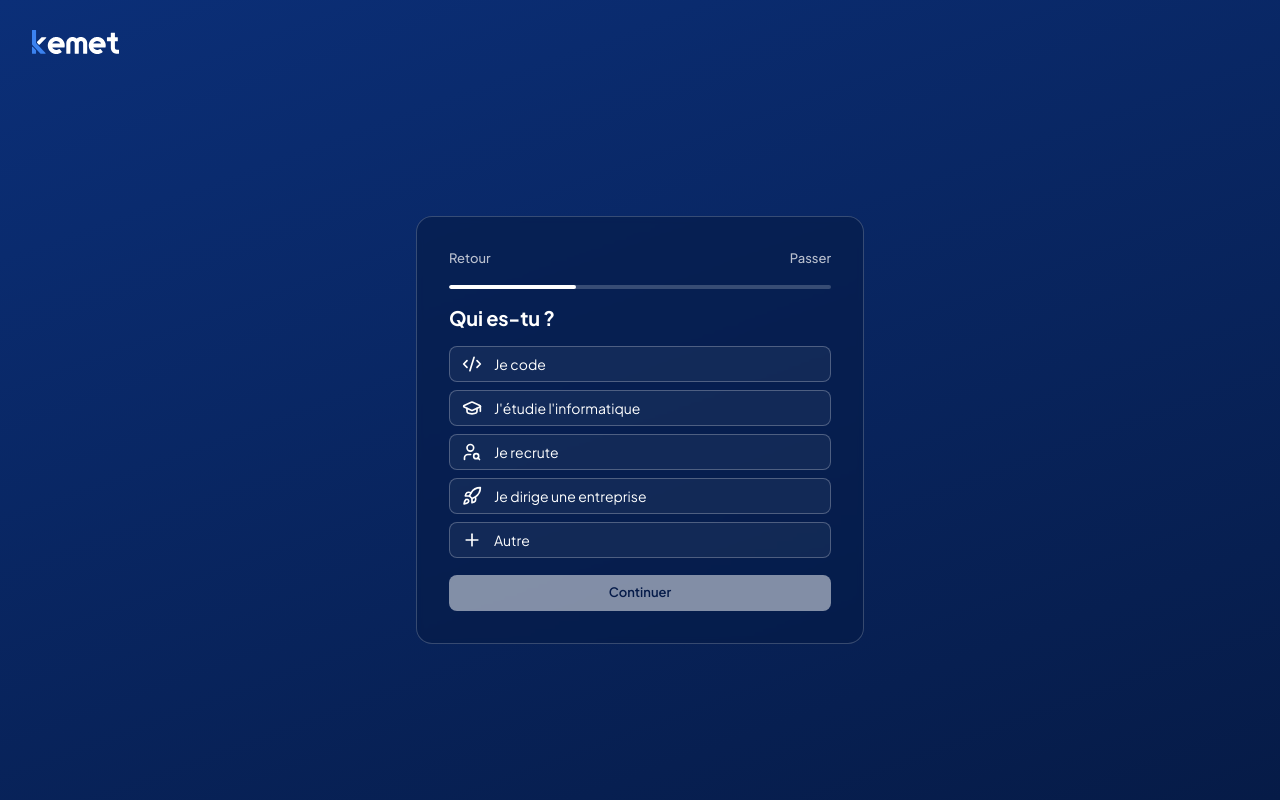
Scenario: IntroQuestionsPage › demande ses domaines à un développeur
This screenshot has width=1280, height=800.
Click the radio button labelled "Je code". click: (640, 364)
box: [449, 346, 831, 382]
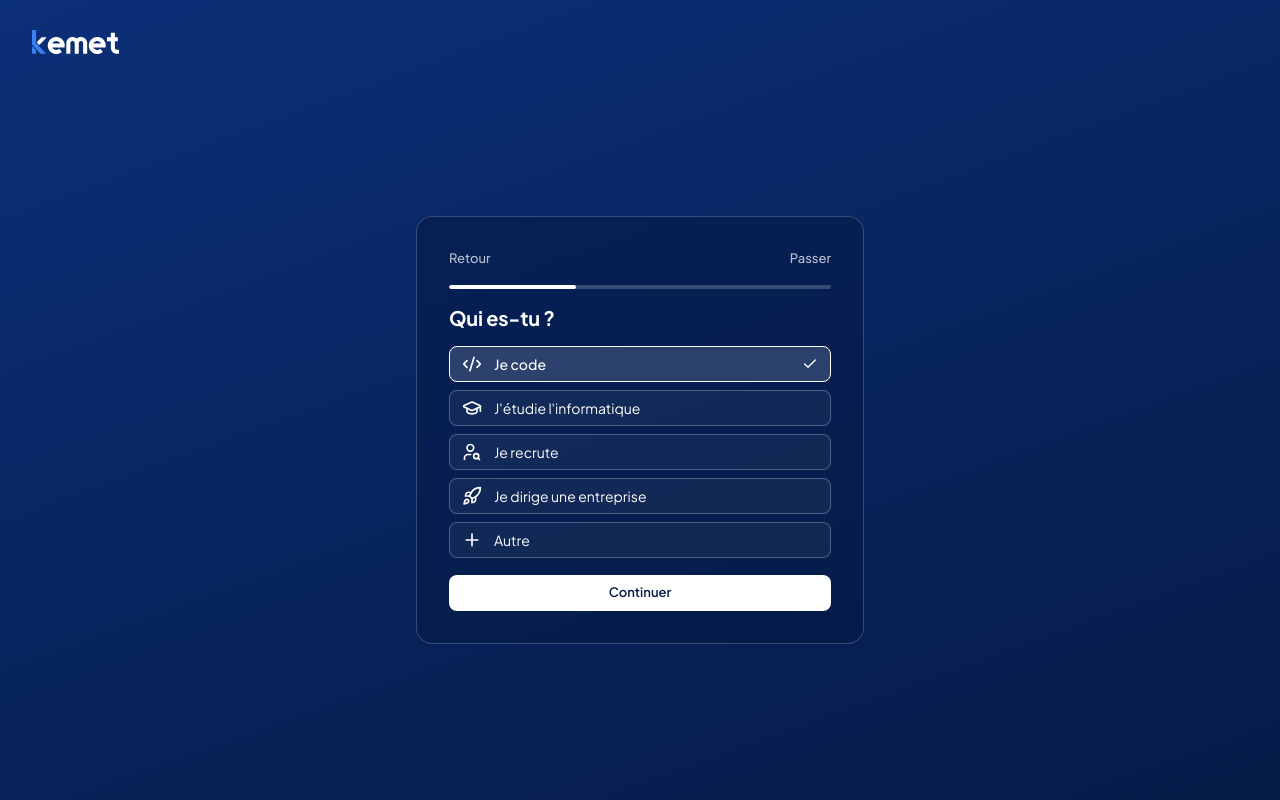
Click the button "Continuer". click: (640, 593)
box: [449, 575, 831, 611]
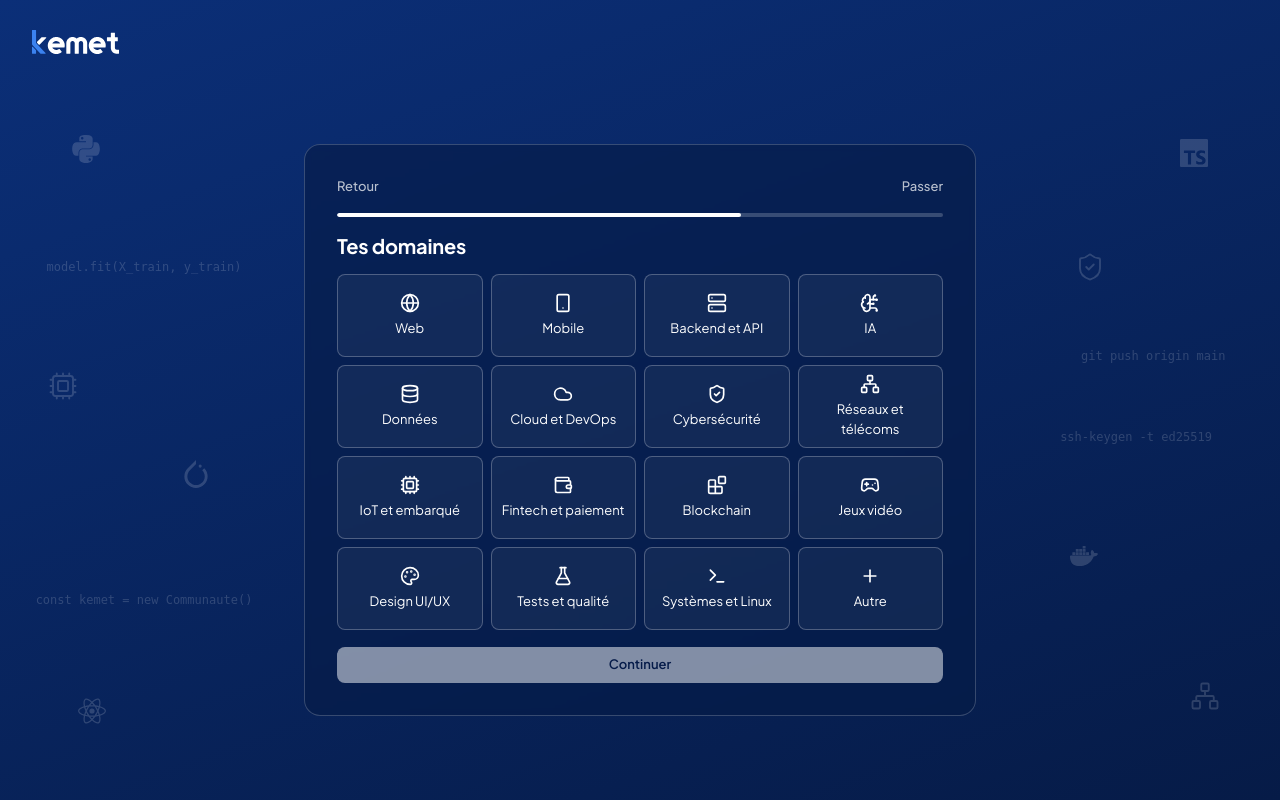
Check: the heading "Tes domaines" is shown, box [337, 233, 466, 258]
